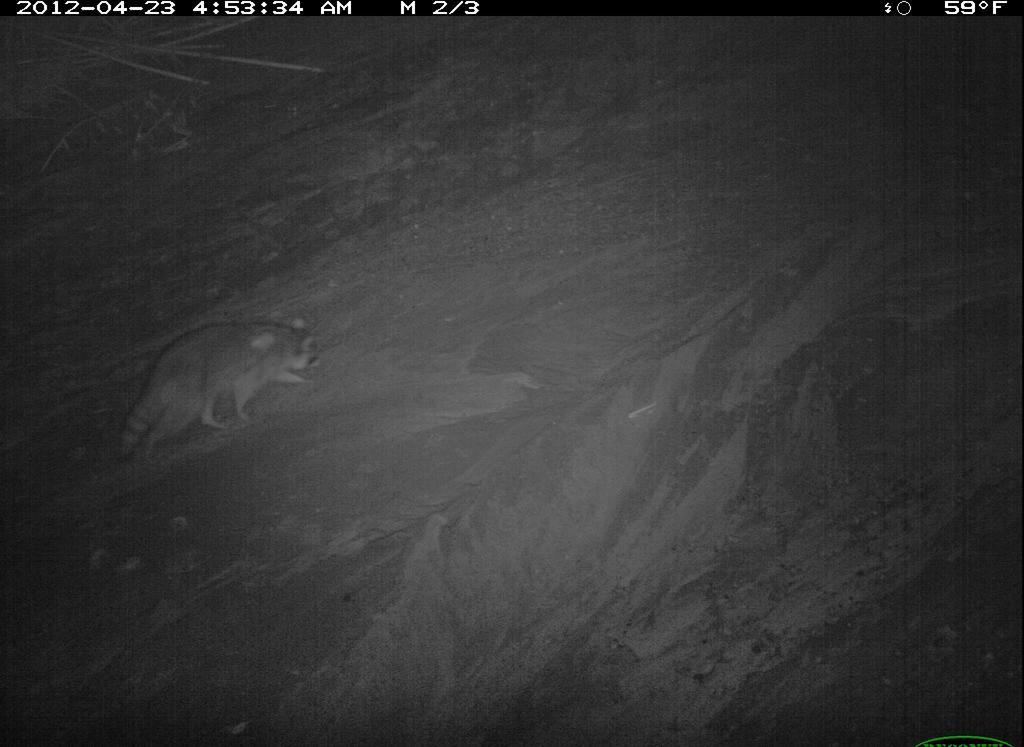raccoon: (228, 615, 646, 747)
